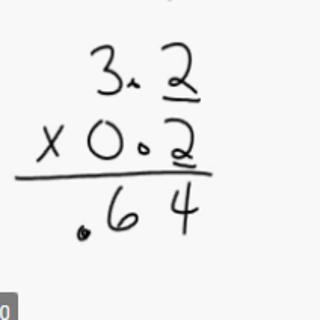.: (70, 222, 96, 245), (133, 140, 154, 156), (127, 73, 143, 92)
0: (86, 116, 128, 162)
2: (156, 37, 201, 96), (160, 113, 200, 158)
3: (89, 39, 126, 98)
4: (170, 177, 199, 237)
6: (107, 184, 141, 234)
